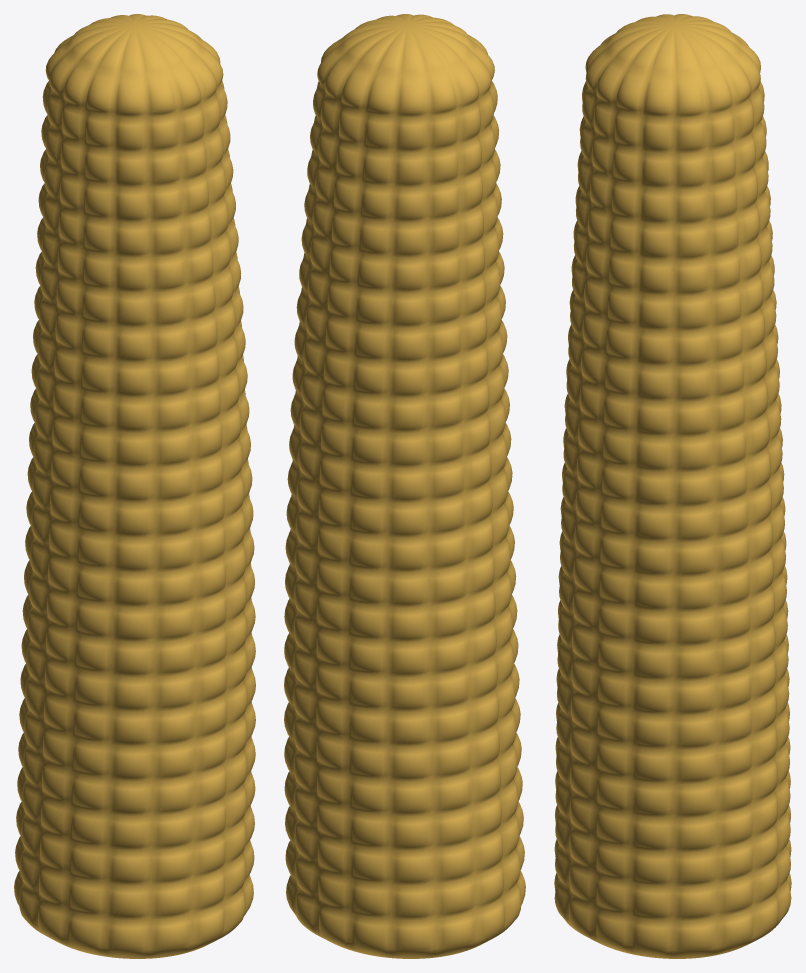
3 views of the same model, side by side, from view 1: azimuth 30°, elevation 25°; view 2: azimuth 150°, elevation 25°; view 3: azimuth 270°, elevation 25° (orthographic).
Parts seen in each view (by area): view 1: Whole shucked corn cob with continuous kernel relief; view 2: Whole shucked corn cob with continuous kernel relief; view 3: Whole shucked corn cob with continuous kernel relief.
Part boxes in pixels (x1,y1,x2,y2): Whole shucked corn cob with continuous kernel relief: (14,14,255,958); Whole shucked corn cob with continuous kernel relief: (284,14,525,958); Whole shucked corn cob with continuous kernel relief: (554,14,791,958).
Size of the model in its own units: 0.046 by 0.19 by 0.0454.
